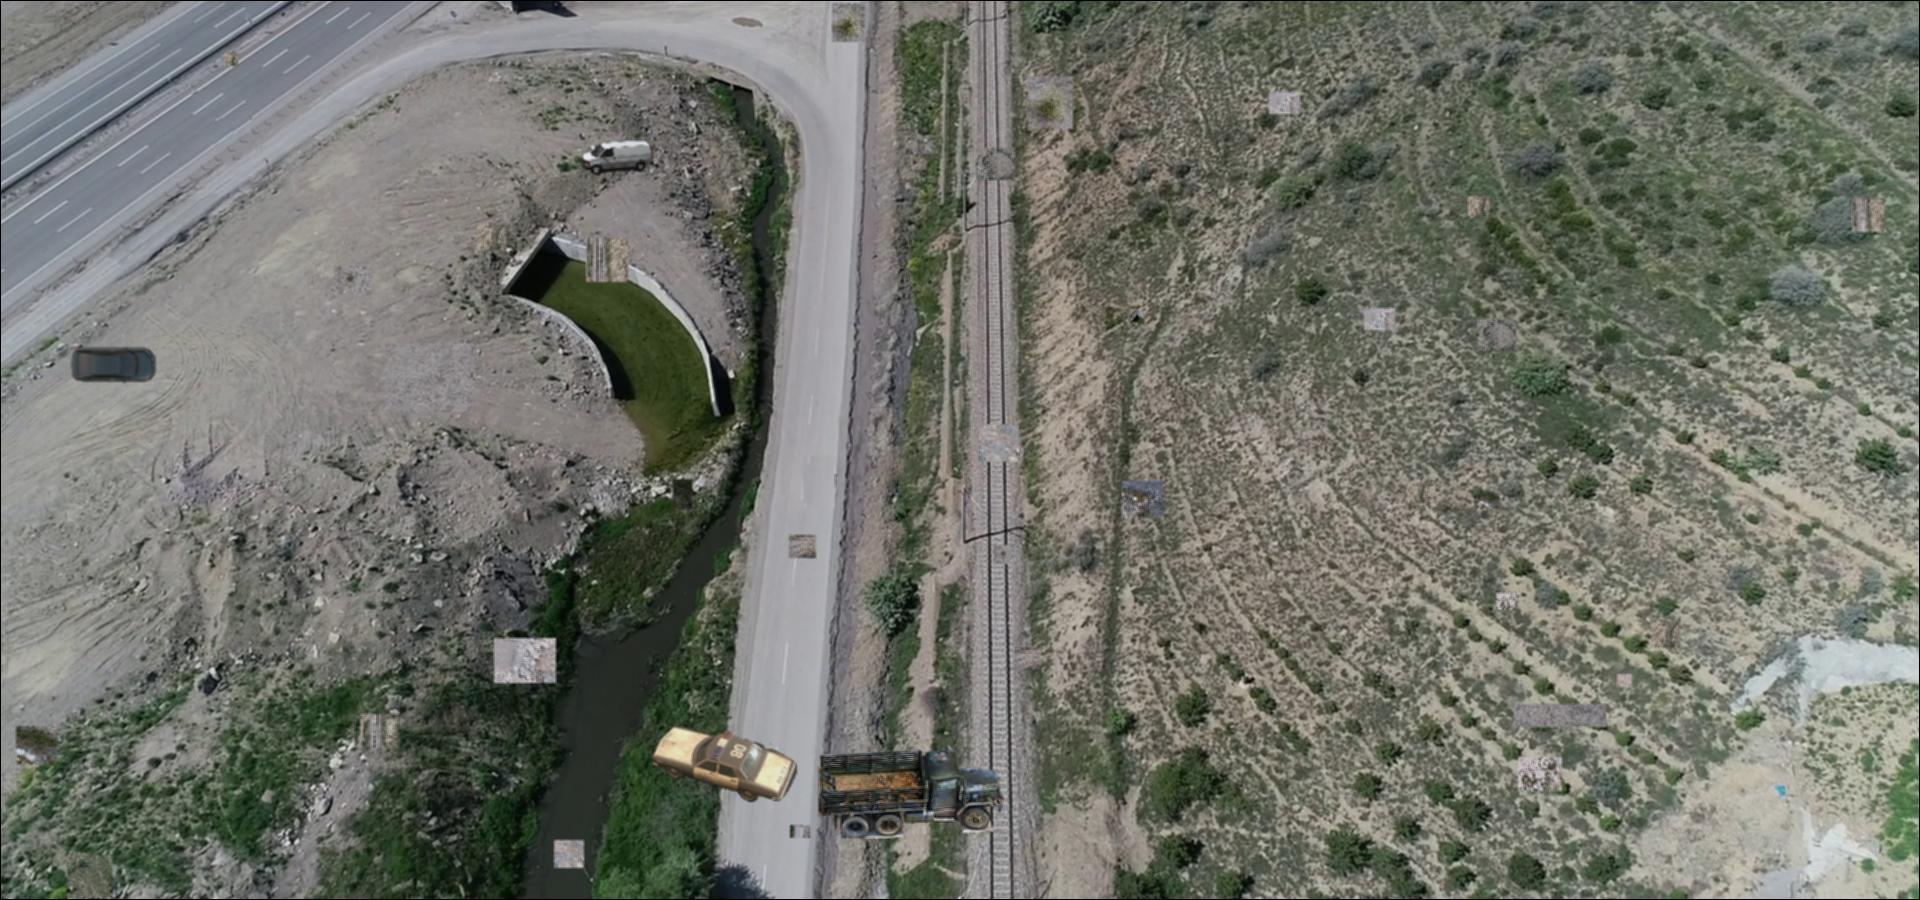arac: (818, 744, 1005, 838), (653, 720, 798, 803), (70, 345, 156, 383), (580, 140, 655, 175)
